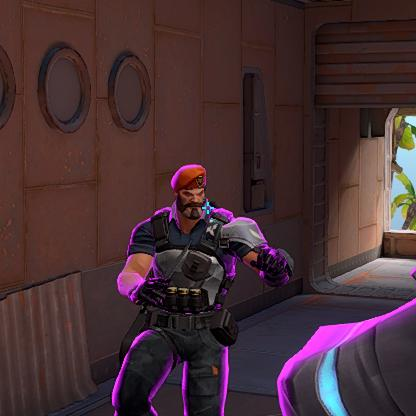enemyBody: (172, 220, 209, 296)
enemyHead: (176, 173, 205, 212)
